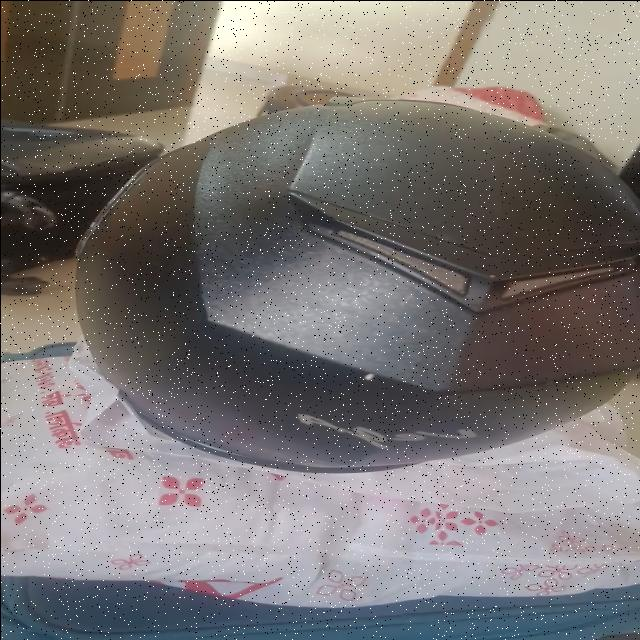Helmet: (71, 96, 640, 476)
